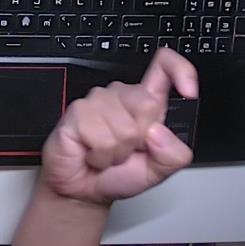anticlockwise: (38, 41, 204, 205)
